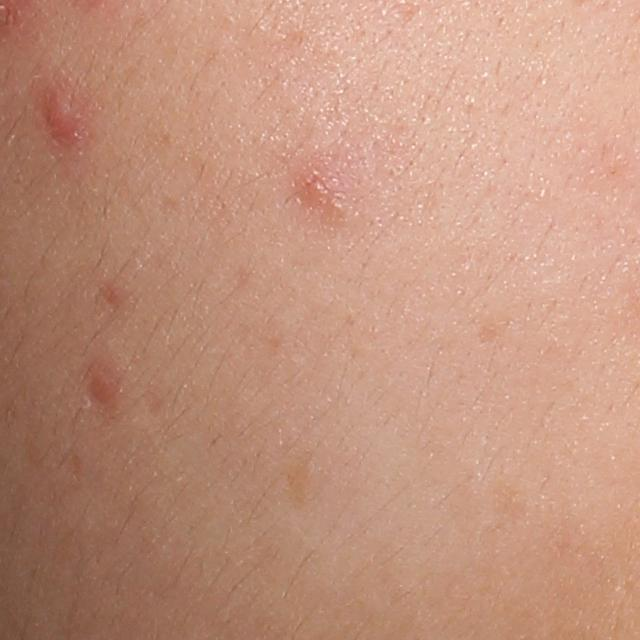papule: (288, 152, 359, 231), (37, 76, 89, 147), (85, 367, 118, 407)
